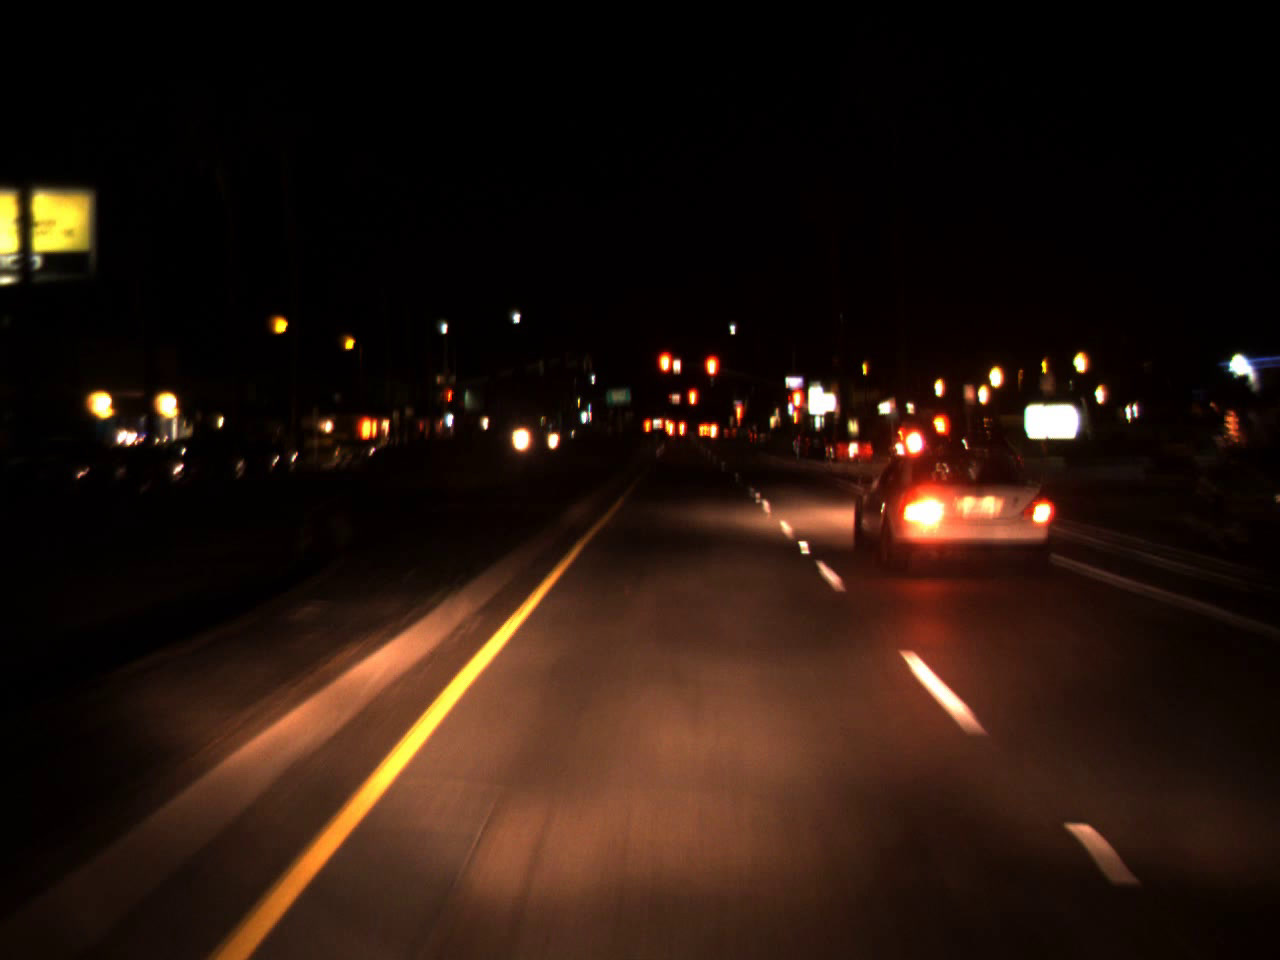stop: (655, 348, 674, 399), (789, 384, 807, 435), (703, 352, 721, 397), (734, 399, 743, 453), (687, 386, 699, 423), (447, 387, 453, 419)
